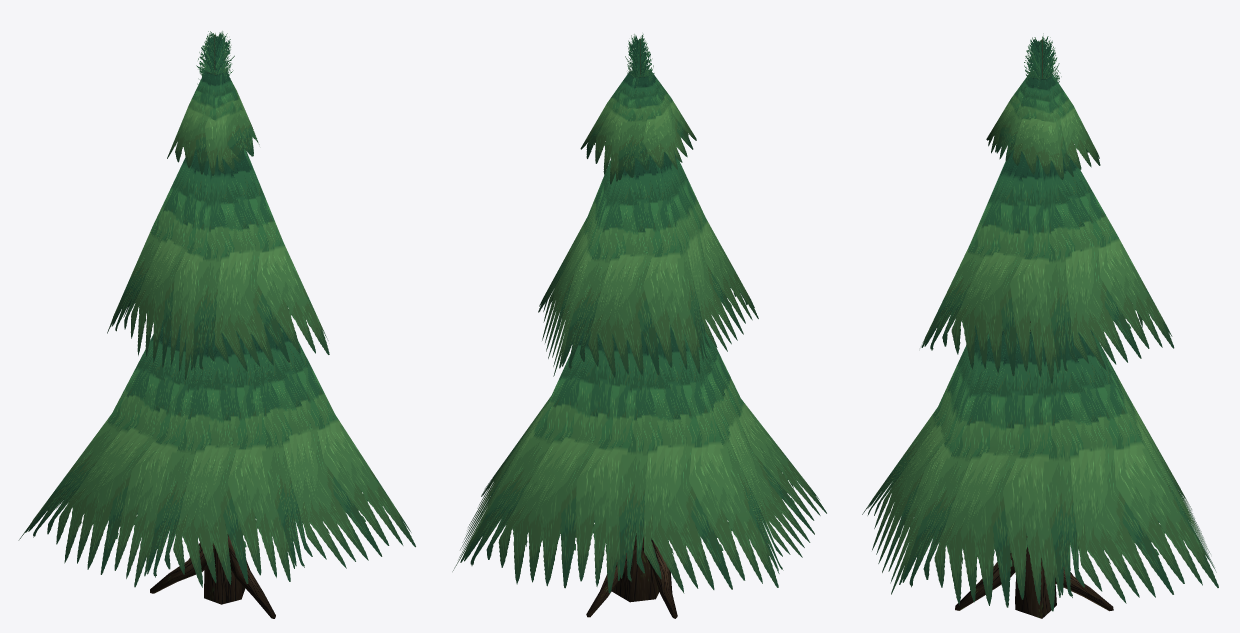
File: tree_pine_a_lod1.glb
3 renders of one model, left to right at view 1: azimuth 30°, elevation 25°; view 2: azimuth 150°, elevation 25°; view 3: azimuth 270°, elevation 25°, orthographic.
Visible parts, largest first — view 1: tree_pine_a_lod1; view 2: tree_pine_a_lod1; view 3: tree_pine_a_lod1.
Boxes of the visible parts, box(x1,y1,x2,y2) form: tree_pine_a_lod1: box(18, 31, 415, 618); tree_pine_a_lod1: box(452, 34, 826, 618); tree_pine_a_lod1: box(862, 33, 1218, 618).
Bounding box in the file's own units: 3.26 × 5.41 × 3.13.
Materials: 2 (2 with a texture image).
